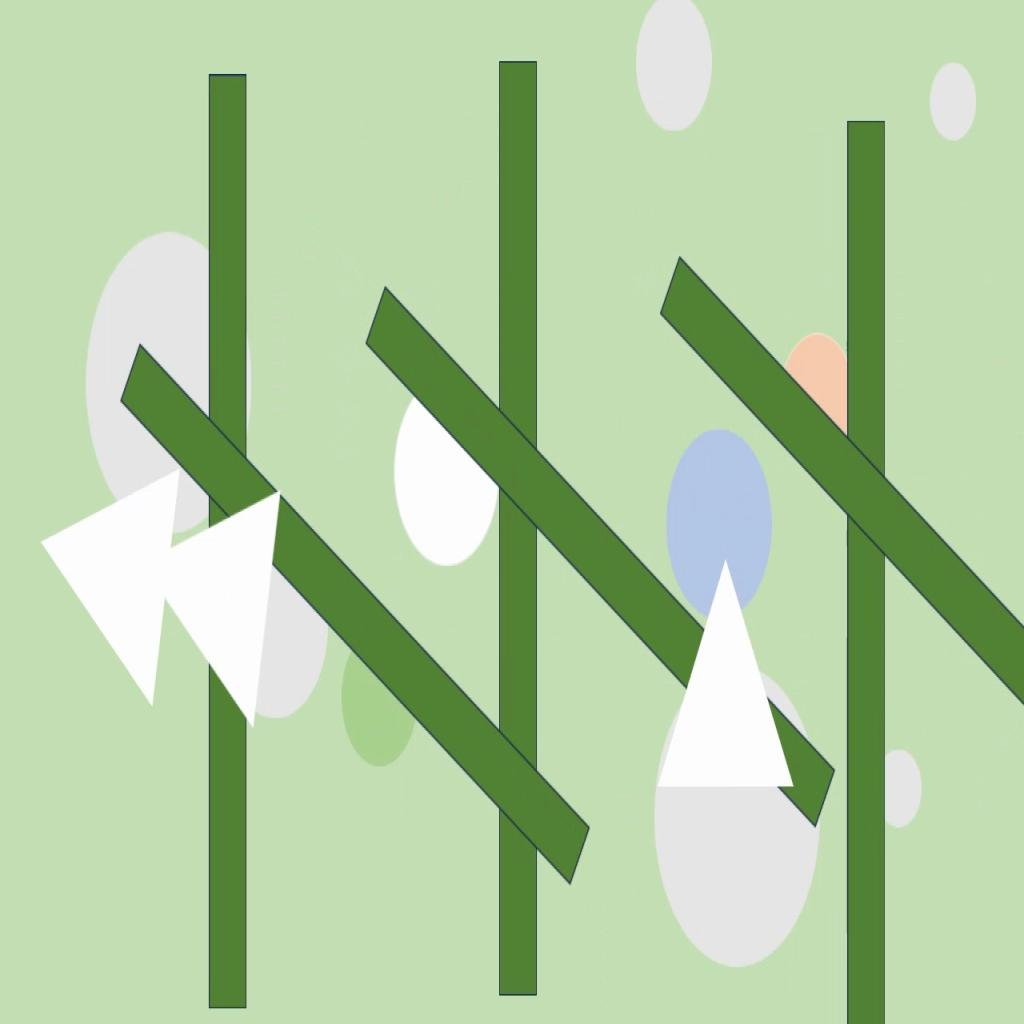Circle: (85, 230, 253, 538), (653, 665, 820, 971), (391, 374, 501, 566), (666, 425, 774, 620), (221, 537, 332, 718), (341, 630, 417, 772), (636, 0, 714, 135), (784, 332, 853, 455), (928, 60, 977, 144), (876, 745, 923, 827)
